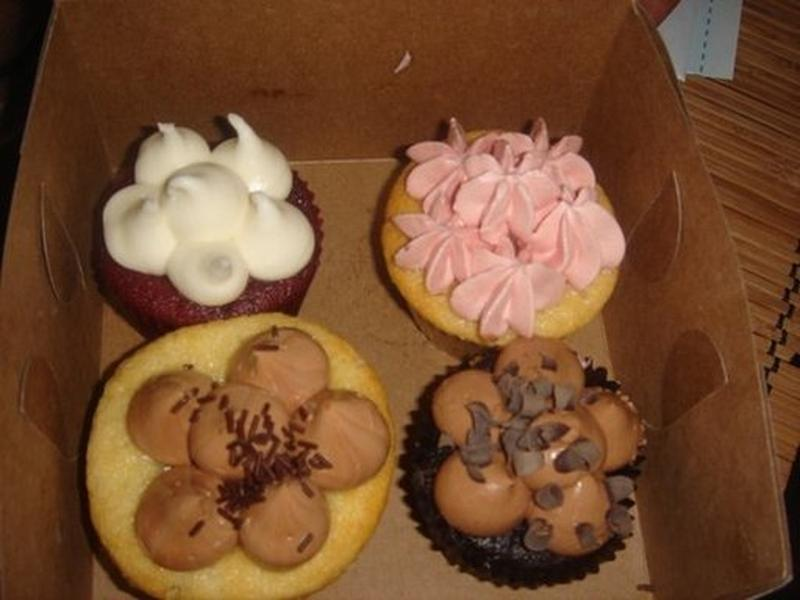cup_cake: (75, 51, 668, 600)
